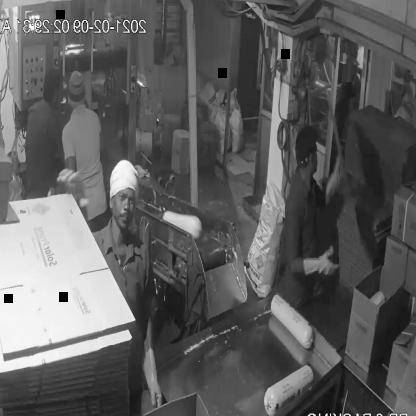glove: (292, 241, 348, 290), (140, 341, 174, 415), (51, 160, 92, 218), (325, 145, 350, 199)
